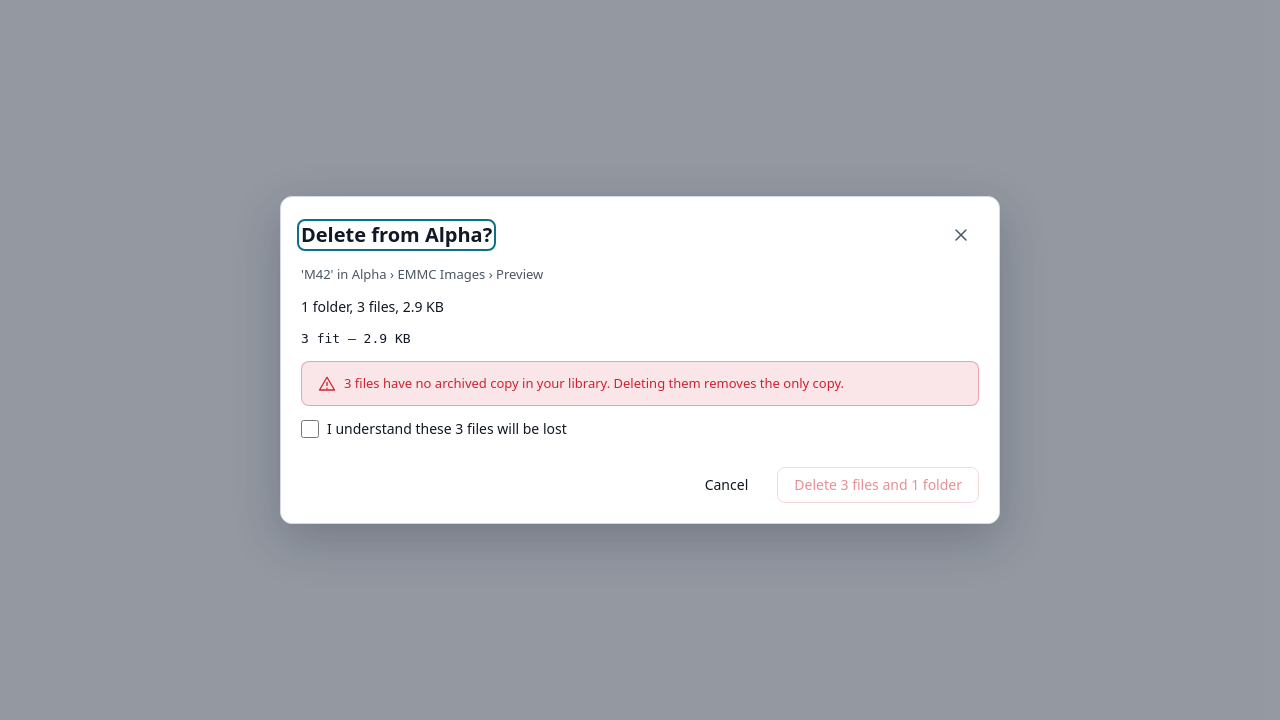
Test: DeleteDialog › keeps Delete disabled until the unarchived checkbox is ticked
The width and height of the screenshot is (1280, 720).
Expected: the text "3 files have no archived copy in your library. Deleting them removes the only copy." is shown, 344,374 -> 844,392
Expected: the button "Delete 3 files and 1 folder" is disabled, 777,467 -> 979,503
Click the checkbox labelled "I understand these 3 files will be lost".
click(310, 429)  # box 301,420 -> 319,438
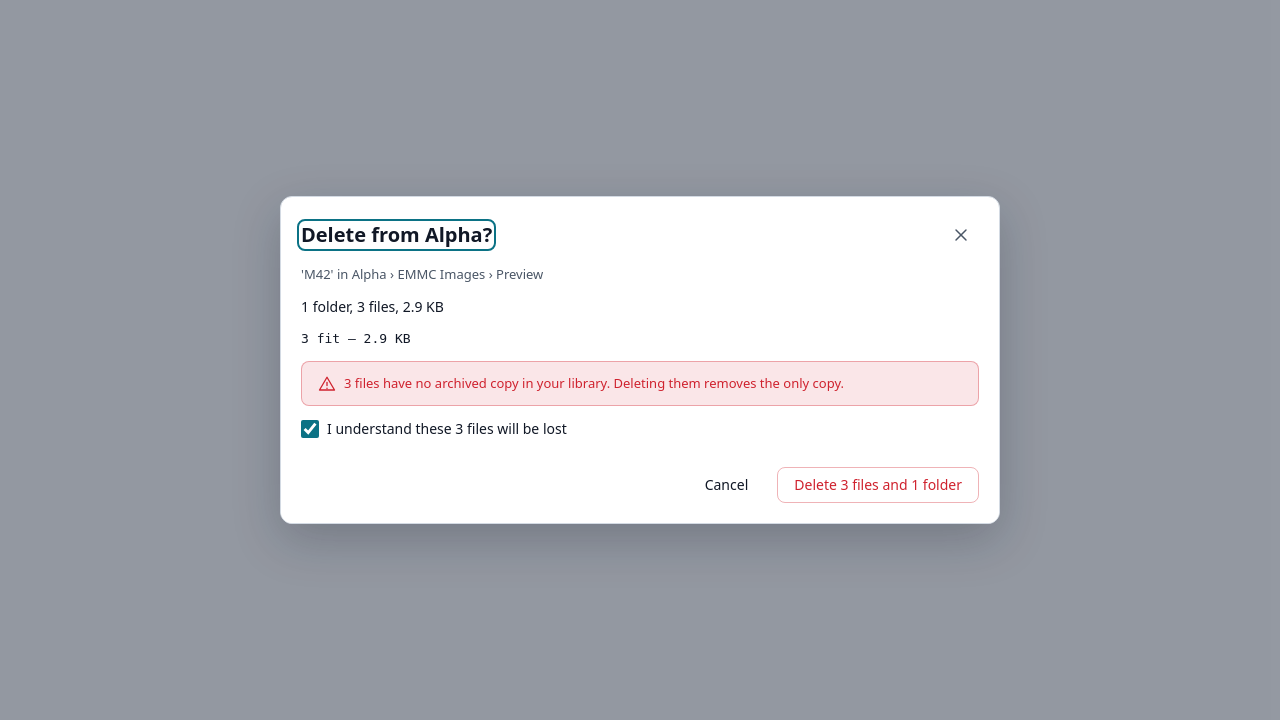
Expected: the button "Delete 3 files and 1 folder" is enabled, 777,467 -> 979,503
